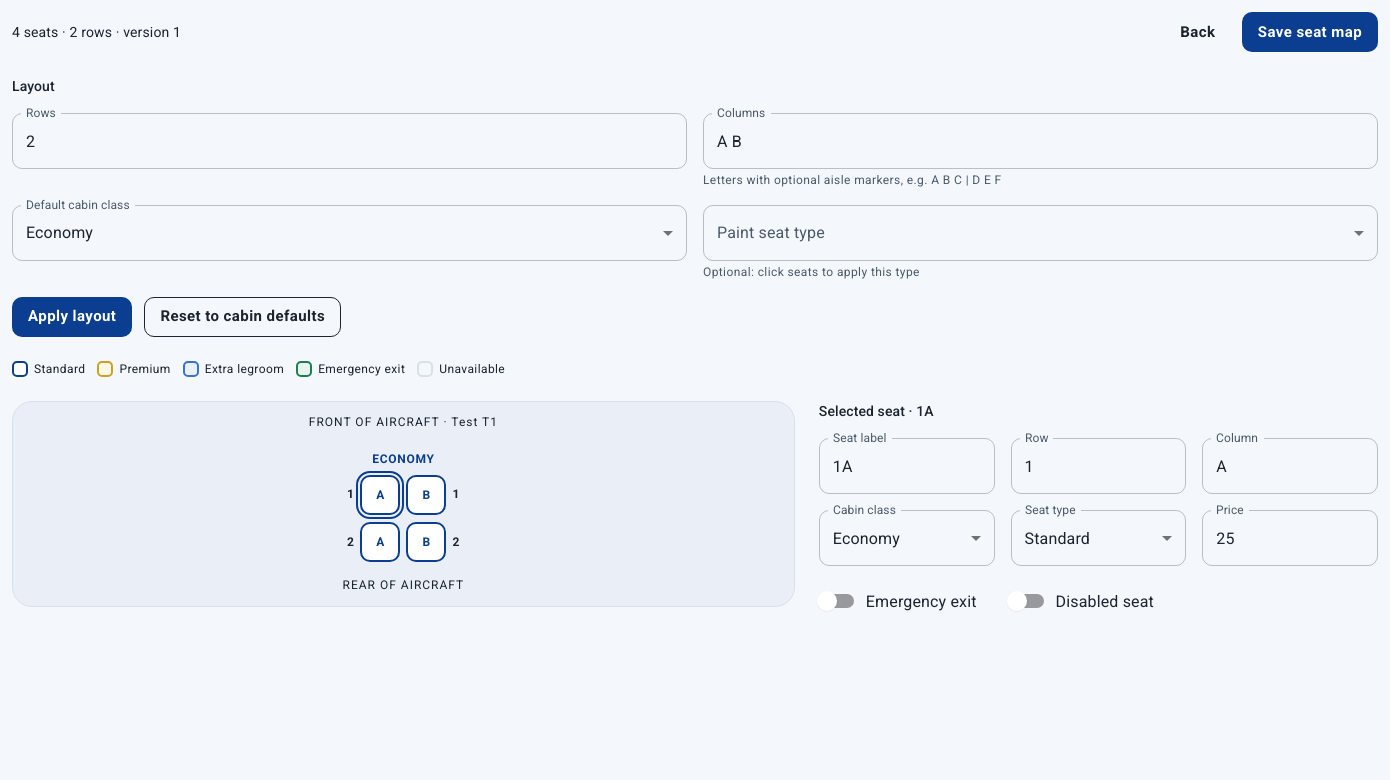
AircraftSeatMapEditor › selects a seat without paint, and paints when a paint type is active
Click the 2nd button "B".
click(426, 542)  # box x1=406 y1=522 x2=446 y2=562
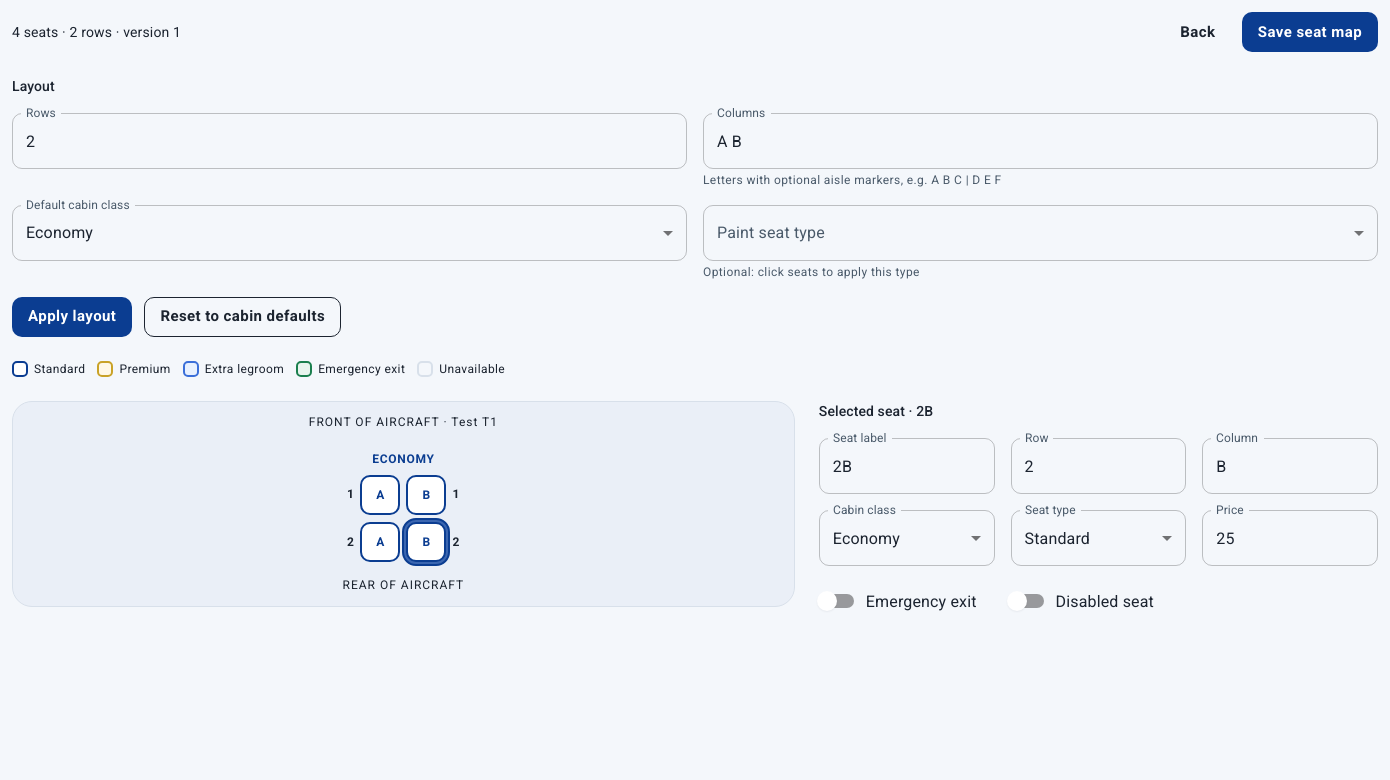
Check: the heading "Selected seat · 2B" is shown, box x1=819 y1=403 x2=933 y2=419
Check: the button named "Configure seat 2B, Standard, ECONOMY, Selected" is shown, box x1=406 y1=522 x2=446 y2=562
Click the dropdown named "Paint seat type".
click(1040, 233)  # box x1=703 y1=205 x2=1378 y2=261
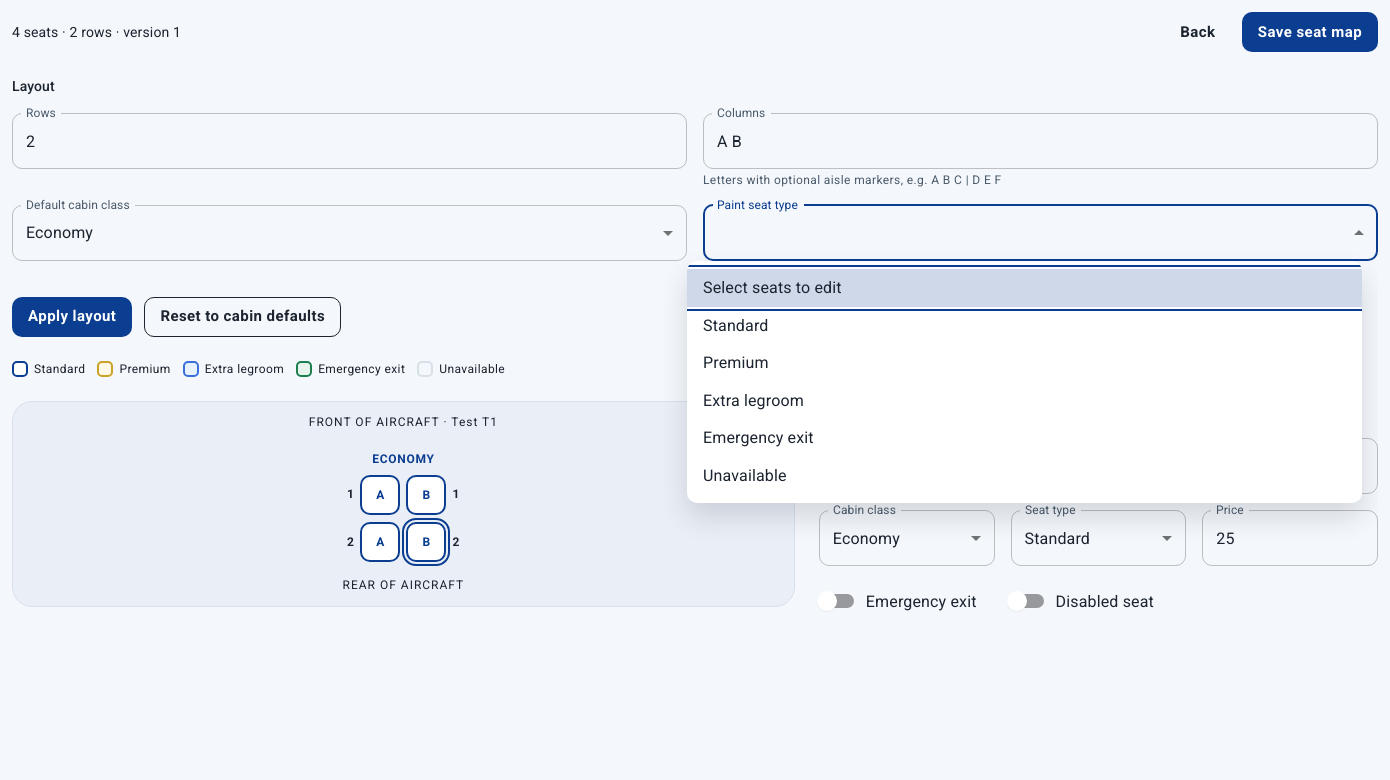
Click the option "Premium".
click(736, 363)  # box x1=703 y1=353 x2=769 y2=372
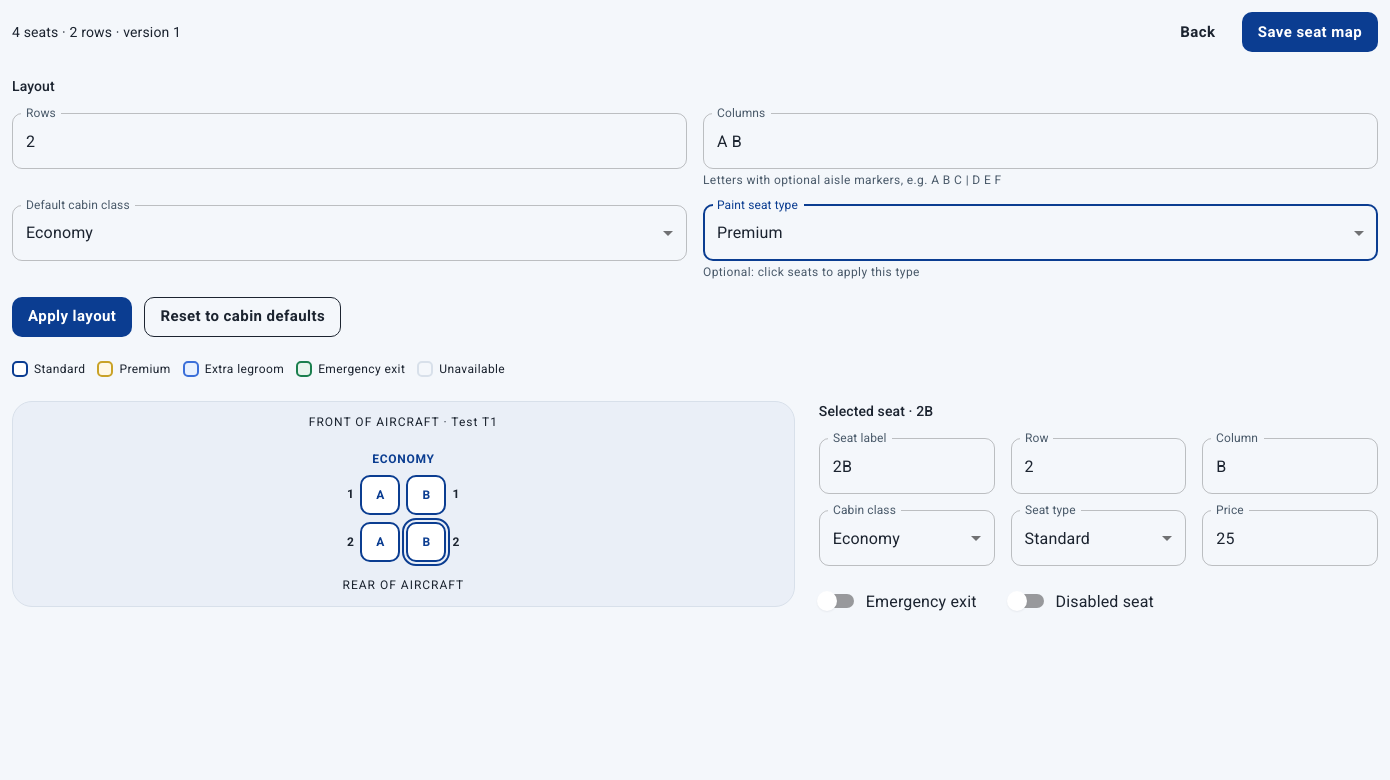
Click the 1st button "B".
click(426, 495)  # box x1=406 y1=475 x2=446 y2=515
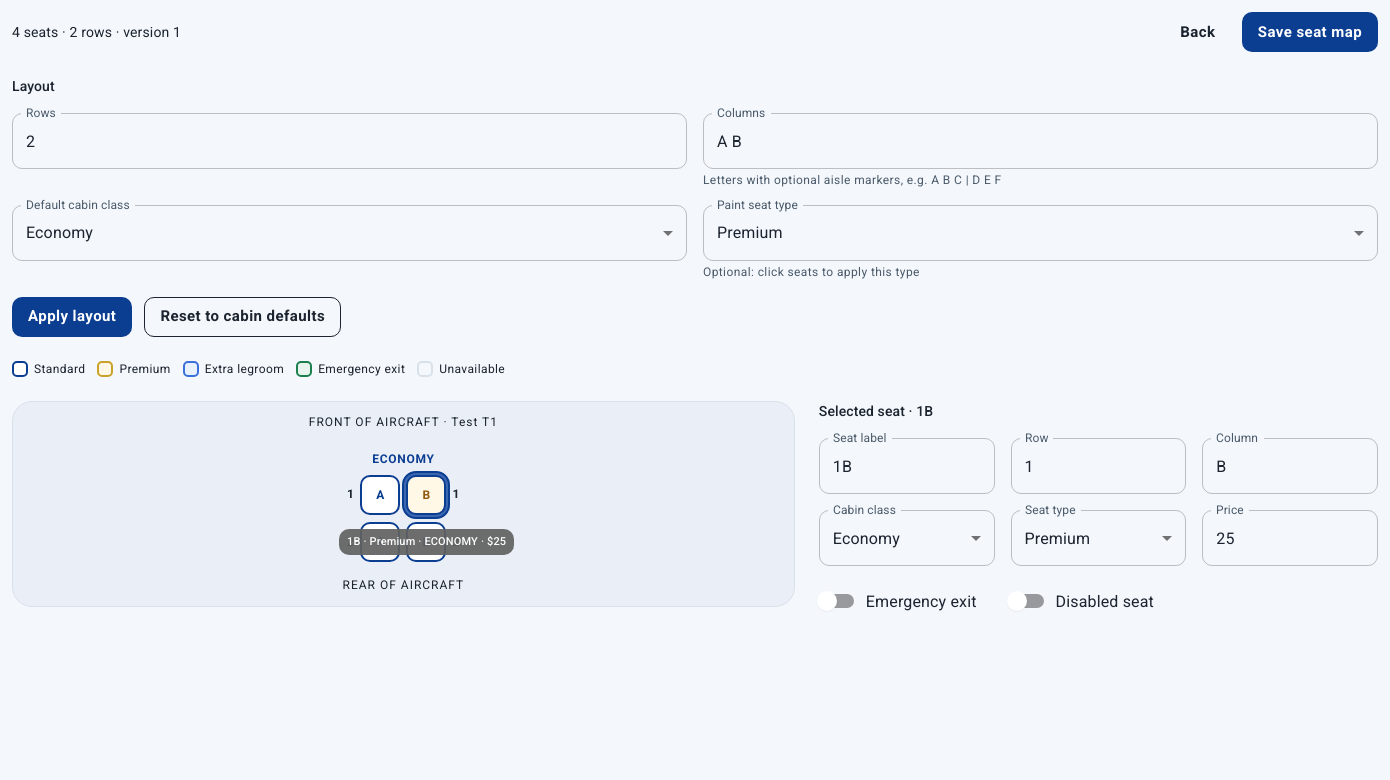
Check: the button named "Configure seat 1B, Premium, ECONOMY, Selected" is shown, box x1=406 y1=475 x2=446 y2=515
Check: the dropdown named "Seat type" reads "Premium", box x1=1024 y1=529 x2=1090 y2=548
